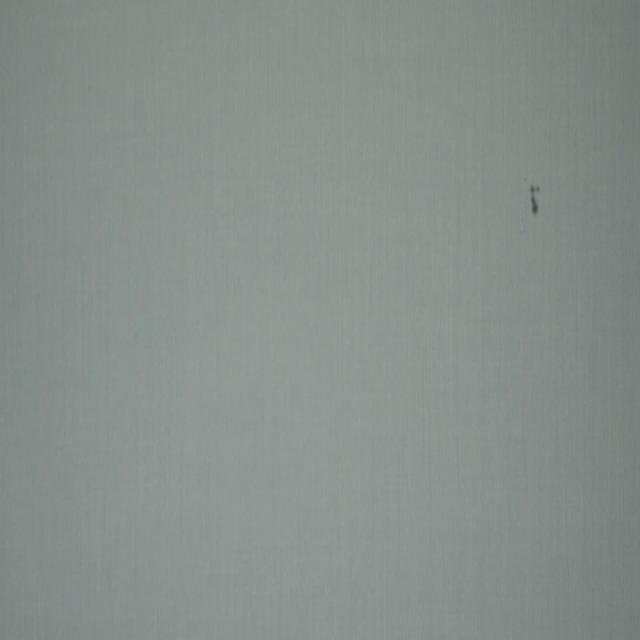dirty: (530, 182, 544, 216)
